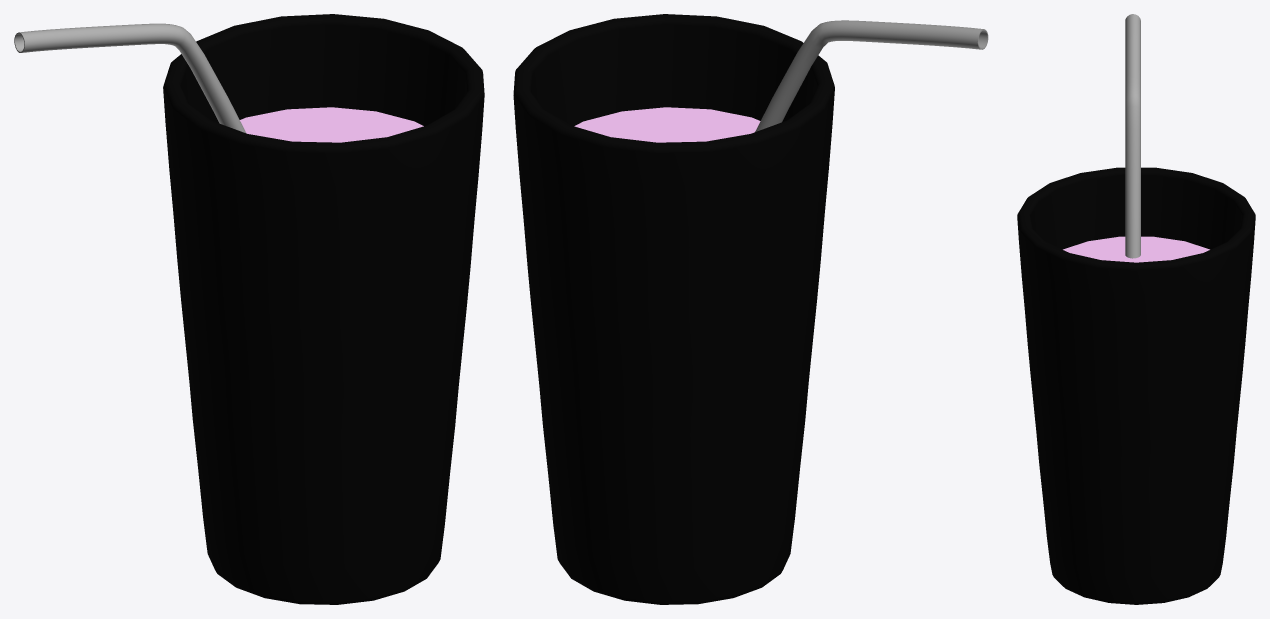
The model's file is cubos.fbx.
3 renders of one model, left to right at view 1: azimuth 30°, elevation 25°; view 2: azimuth 150°, elevation 25°; view 3: azimuth 270°, elevation 25°, orthographic. The views are drawn at different scales.
Visible parts, largest first — view 1: copo_low_01, copo_low_03, copo_low_02; view 2: copo_low_01, copo_low_03, copo_low_02; view 3: copo_low_01, copo_low_03, copo_low_02.
Boxes of the visible parts, x1,y1,x2,y2 form: copo_low_01: (163, 14, 484, 604); copo_low_03: (14, 23, 246, 133); copo_low_02: (240, 107, 423, 142); copo_low_01: (513, 14, 834, 604); copo_low_03: (755, 20, 988, 131); copo_low_02: (574, 107, 760, 142); copo_low_01: (1017, 167, 1255, 604); copo_low_03: (1125, 14, 1140, 258); copo_low_02: (1063, 236, 1209, 262).
Bounding box in the file's own units: 132 × 169 × 81.92.
